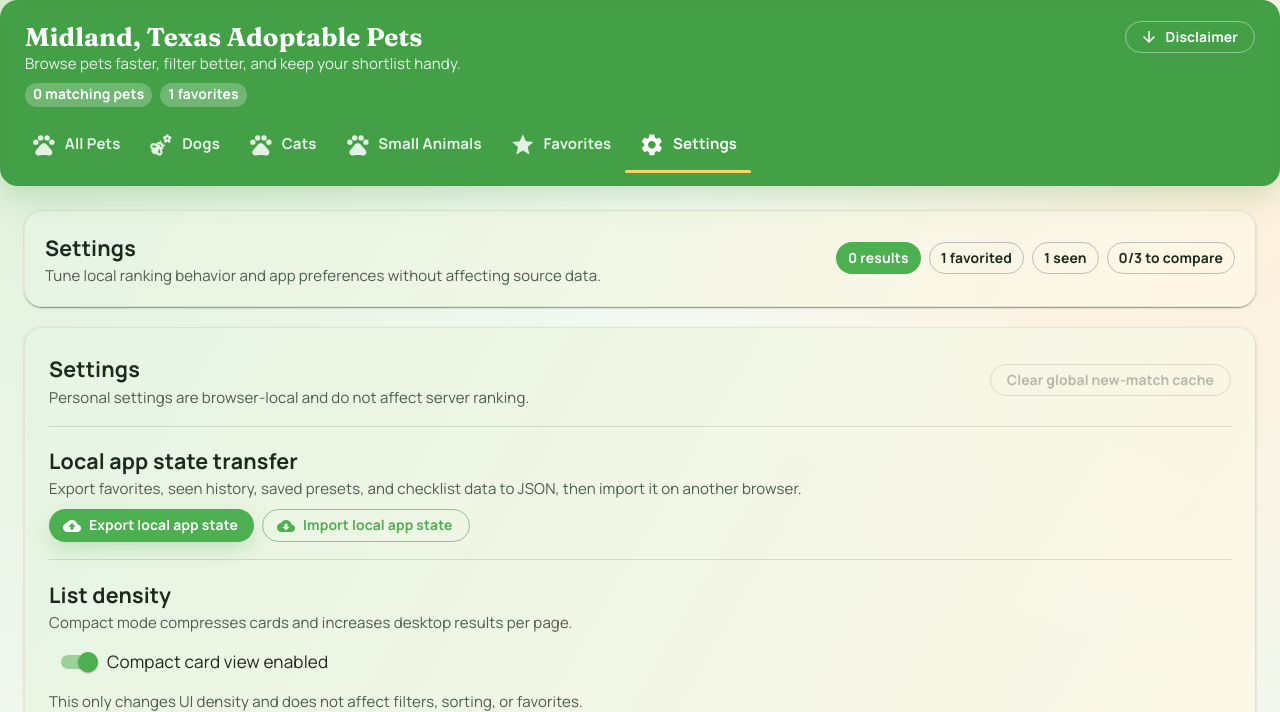
Test case: App › exports local app state from Settings to a JSON file
The width and height of the screenshot is (1280, 712).
Click the button "Export local app state" at (152, 526), box x1=49 y1=510 x2=254 y2=542
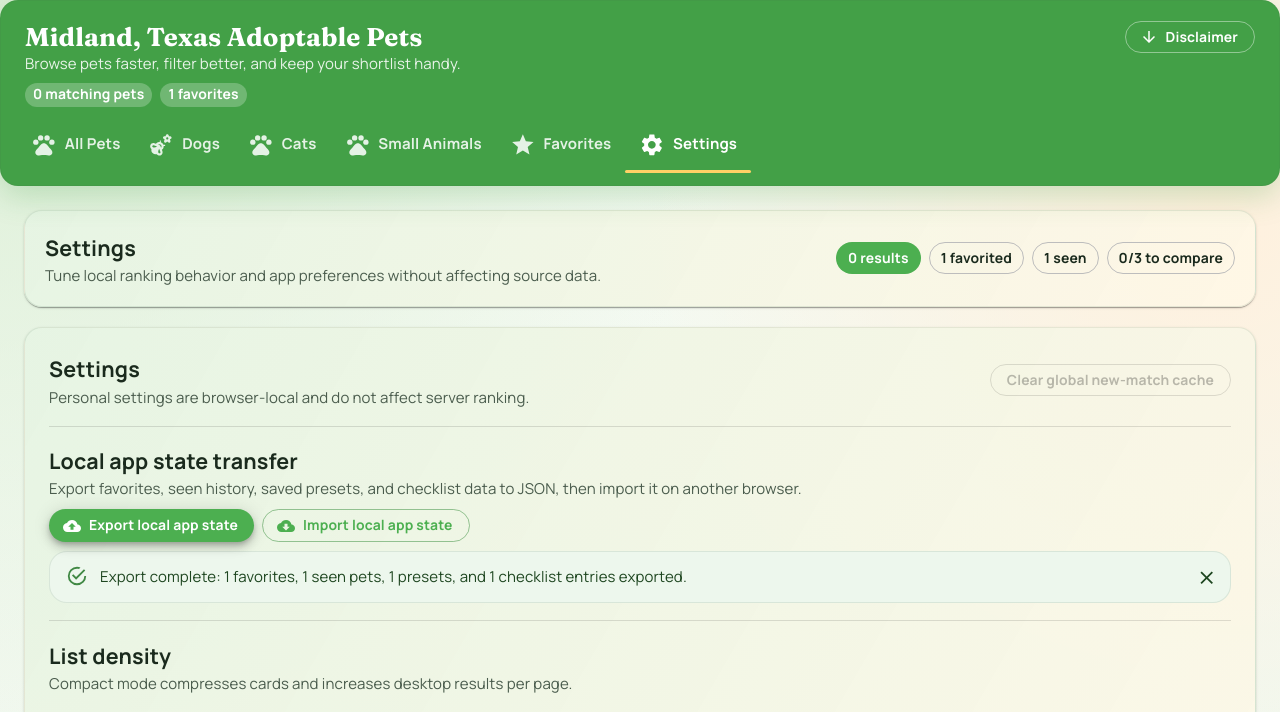
Check: the message is shown, box x1=49 y1=551 x2=1231 y2=603
